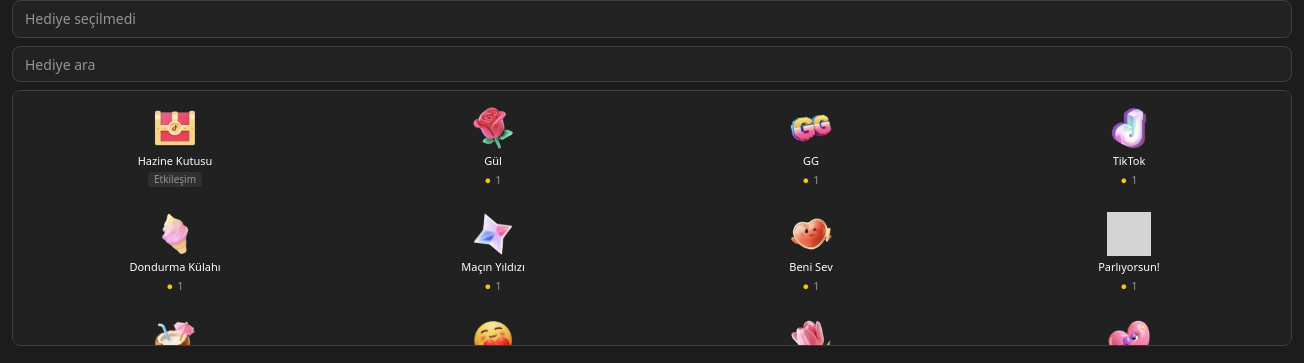
Test: GiftPicker › arama Türkçe harflere duyarsız filtreler
In the search field: (652, 64) [12, 46, 1292, 82], type "KAHVE"
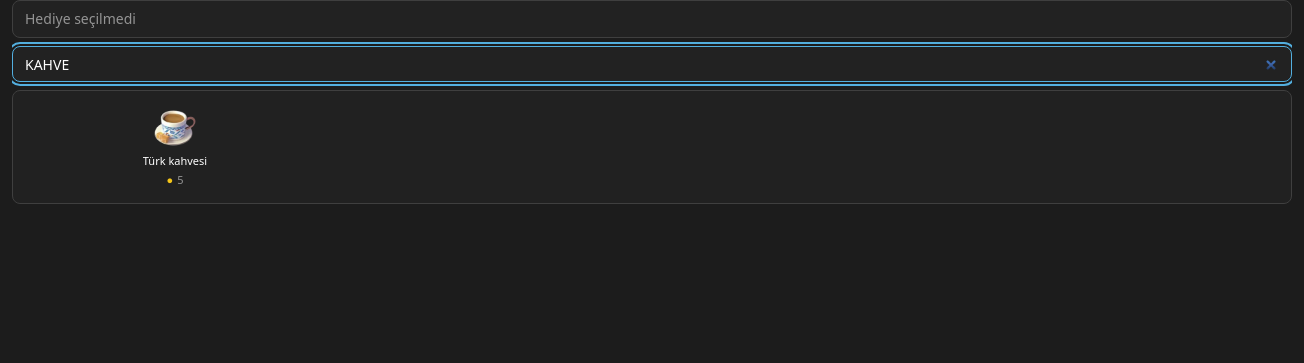
Expected: the number of radio buttons is 1, [19, 97, 331, 197]
Expected: the radio button shows "Türk kahvesi", [19, 97, 331, 197]
